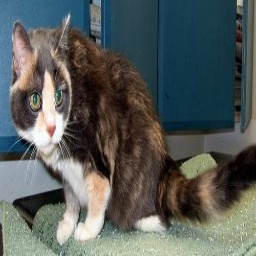cat: (9, 16, 228, 238)
